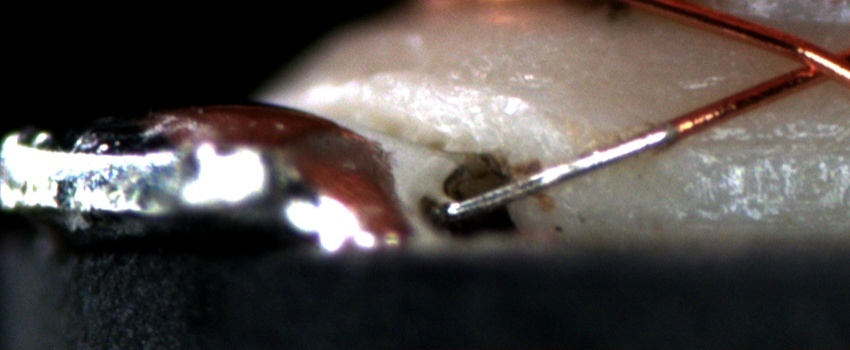CL: (774, 35, 848, 91)
DL: (690, 111, 850, 173)
TS: (445, 124, 675, 215)
